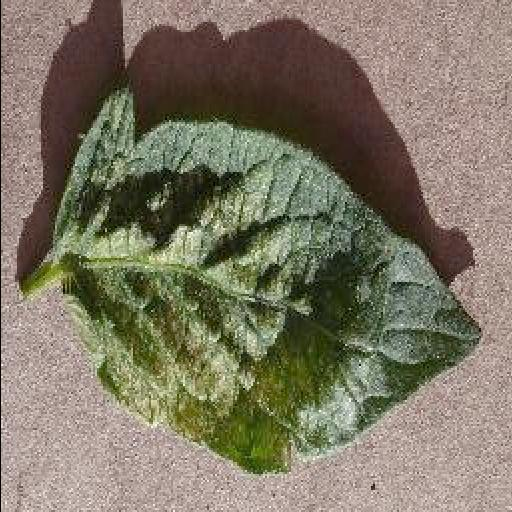disease_tomato: (48, 82, 482, 474)
